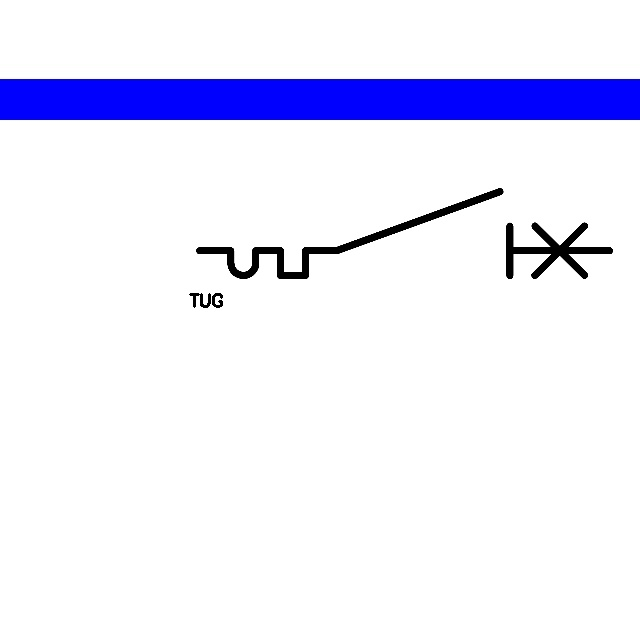interruptor_termomagnetico: (189, 181, 620, 286)
